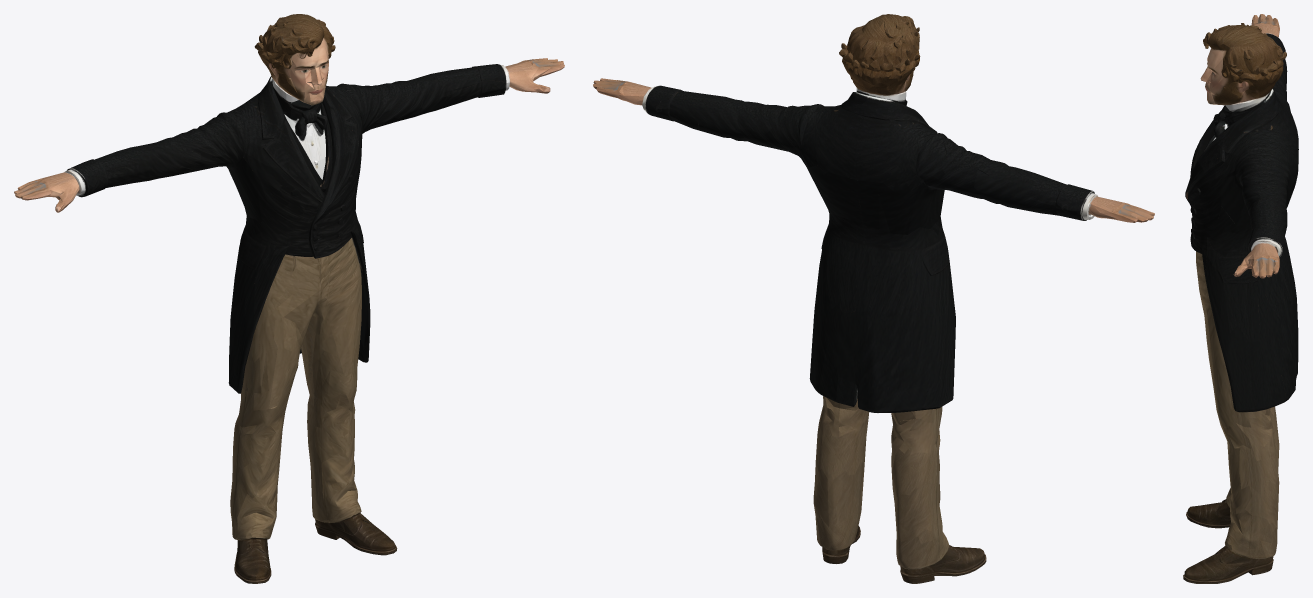
File: martin-harris-10k.glb
3 views of the same model, side by side, from view 1: azimuth 30°, elevation 25°; view 2: azimuth 150°, elevation 25°; view 3: azimuth 270°, elevation 25° (orthographic). The views are drawn at different scales.
Visible parts, largest first — view 1: output_unwrapped; view 2: output_unwrapped; view 3: output_unwrapped.
Boxes of the visible parts, x1=… form: output_unwrapped: x1=14, y1=14, x2=564, y2=583; output_unwrapped: x1=593, y1=14, x2=1154, y2=583; output_unwrapped: x1=1183, y1=14, x2=1298, y2=583.
Bounding box in the file's own units: 1.9 × 1.76 × 0.3541.
Materials: 1 (1 with a texture image).
